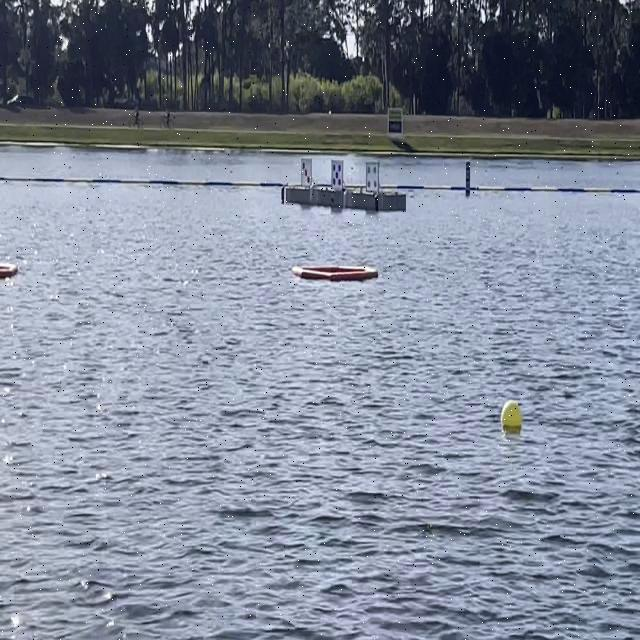buoy: (501, 399, 521, 427)
